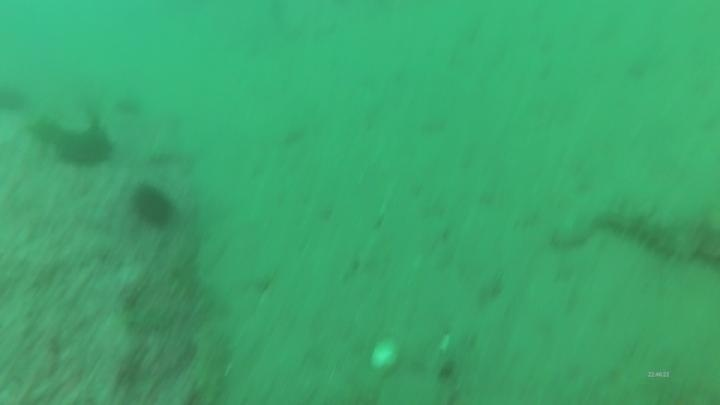echinus: (54, 124, 115, 171), (129, 182, 178, 231), (0, 82, 30, 116)
holothurian: (597, 196, 720, 267), (184, 327, 235, 405)
